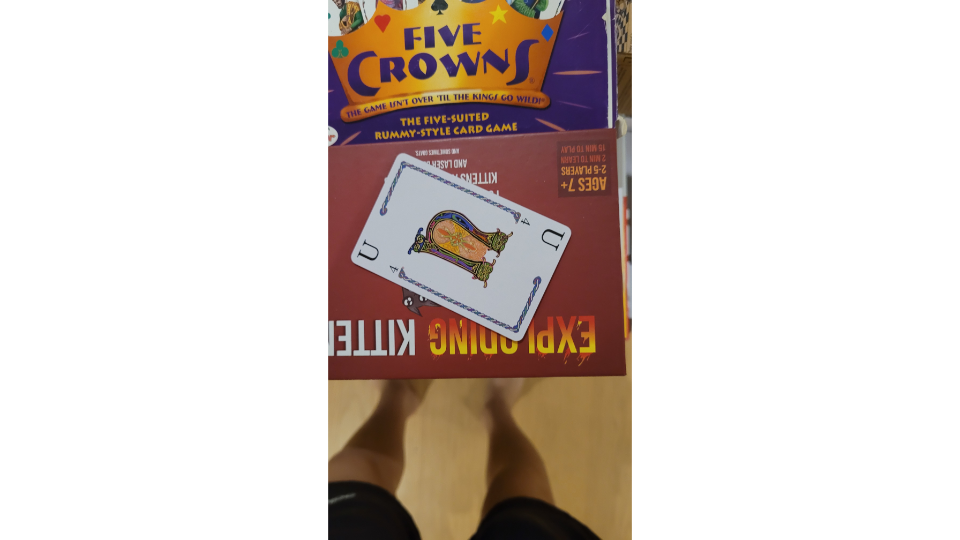U: (347, 150, 576, 343)
